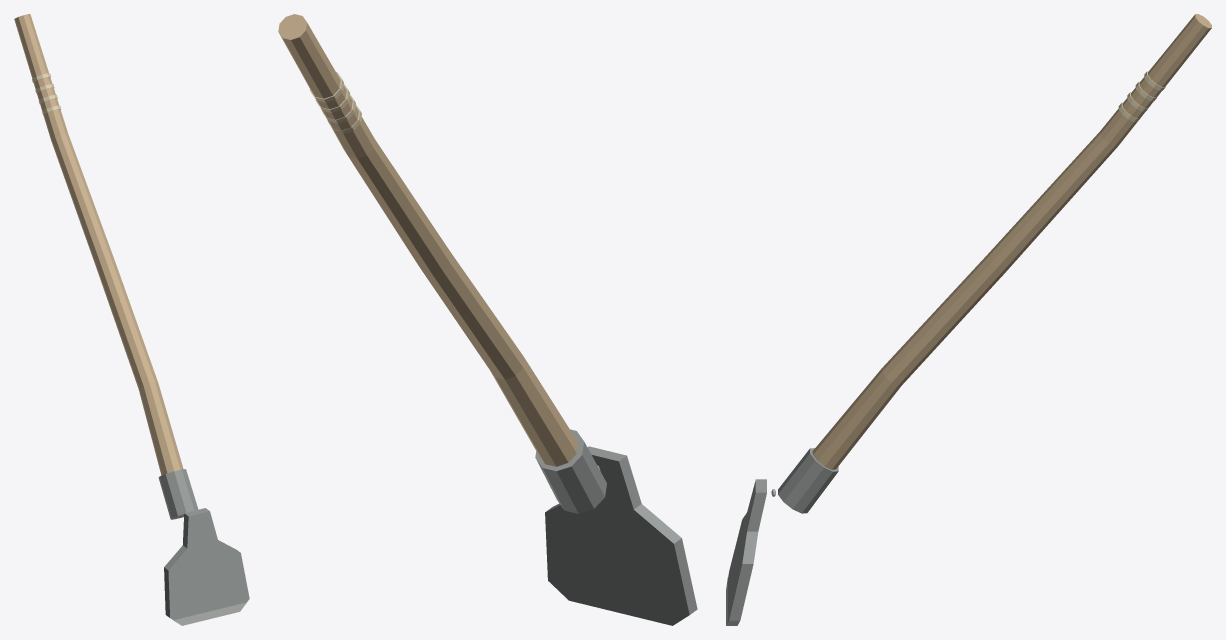
Rendered from hoe.glb.
The picture shows the model from 3 angles, left to right: view 1: azimuth 30°, elevation 25°; view 2: azimuth 150°, elevation 25°; view 3: azimuth 270°, elevation 25°; orthographic projection. The views are drawn at different scales.
Parts seen in each view (by area): view 1: Curved_Ash_Handle, Broad_Forged_Blade, Iron_Socket, Sharpened_Edge; view 2: Curved_Ash_Handle, Broad_Forged_Blade, Iron_Socket; view 3: Curved_Ash_Handle, Broad_Forged_Blade, Iron_Socket.
Boxes of the visible parts, x1,y1,x2,y2 form: Curved_Ash_Handle: (14, 14, 183, 475); Broad_Forged_Blade: (164, 508, 249, 624); Iron_Socket: (158, 469, 198, 519); Sharpened_Edge: (174, 602, 246, 625); Curved_Ash_Handle: (278, 14, 578, 466); Broad_Forged_Blade: (545, 446, 697, 625); Iron_Socket: (535, 429, 606, 513); Curved_Ash_Handle: (812, 14, 1211, 469); Broad_Forged_Blade: (726, 479, 766, 625); Iron_Socket: (778, 448, 838, 513).
Size of the model in its own units: 0.246 by 1.38 by 1.03.
